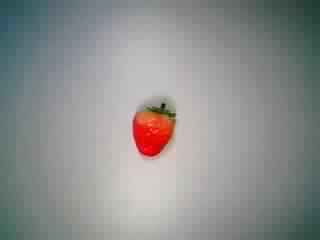strawberry: (118, 95, 186, 159)
